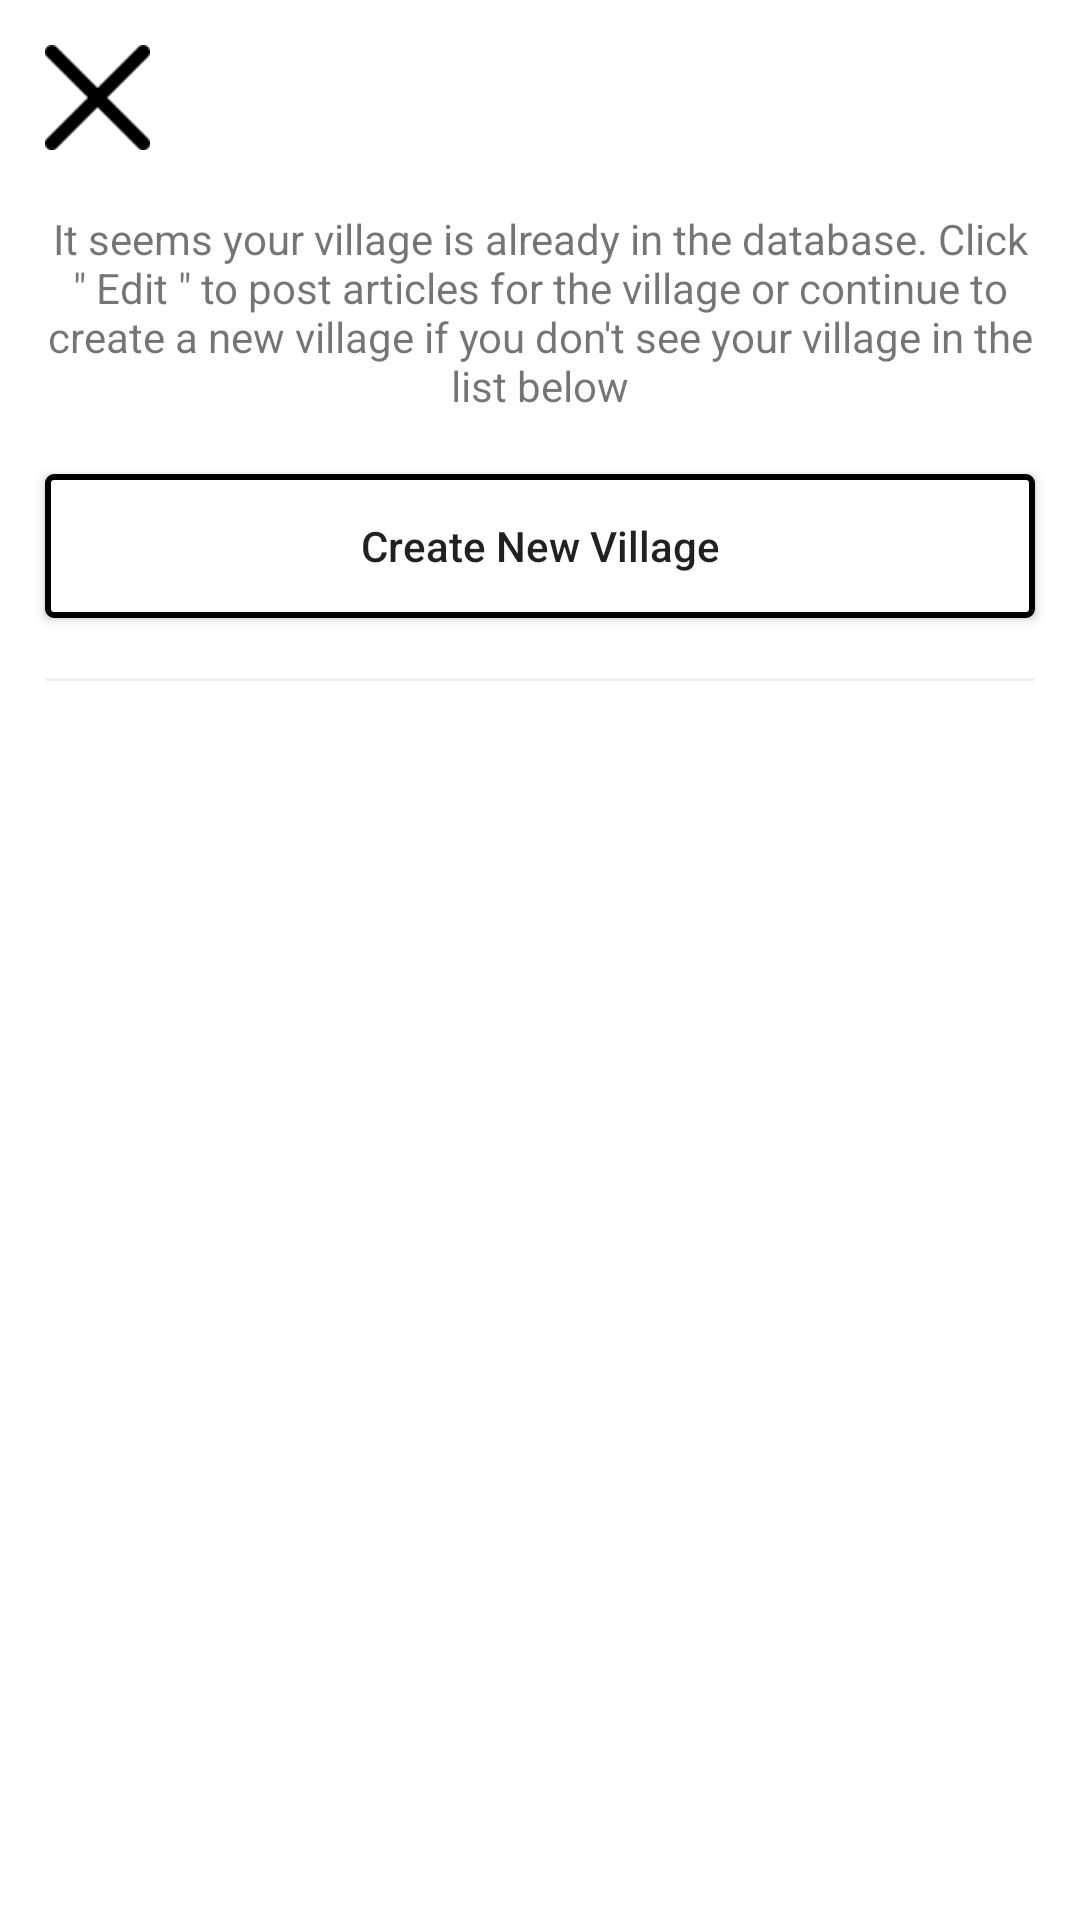

Icon bounding boxes for this 1080x1920 phone screenshot, format (x1=x1, y1=y1, x2=x2, y2=y2):
close: (x1=45, y1=45, x2=150, y2=150)
